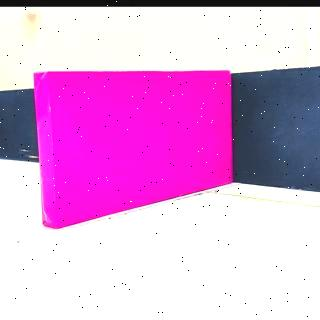xparking: (40, 76, 232, 206)
